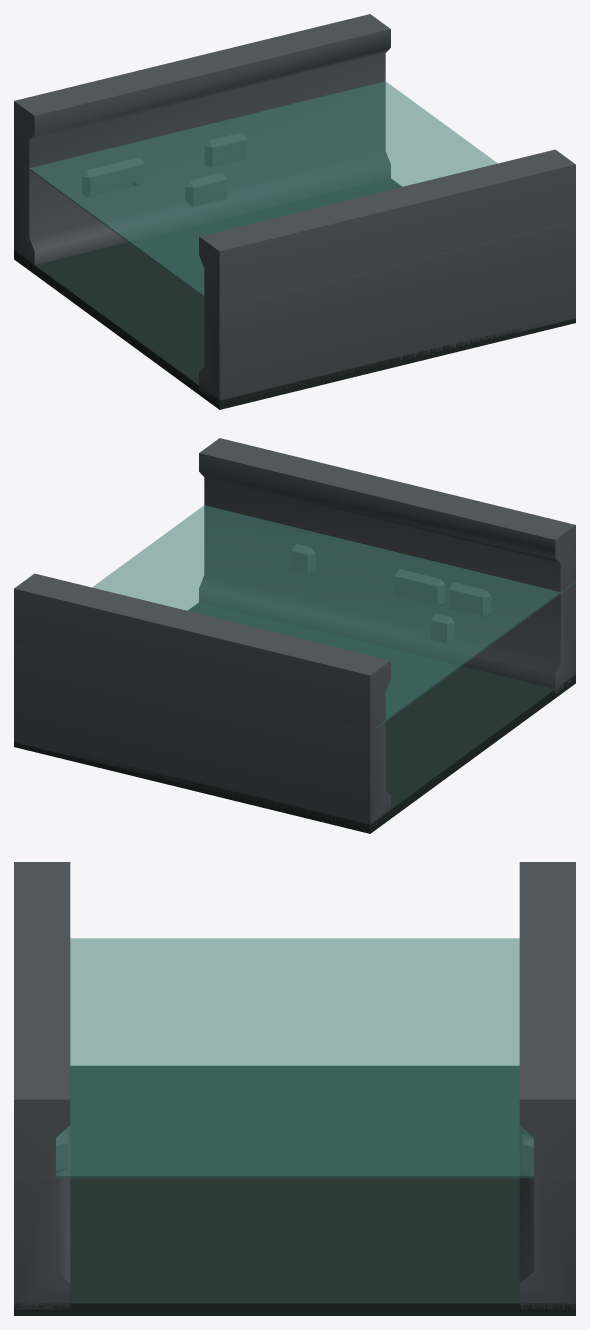
File: floor_pool_runner_B.glb
The picture shows the model from 3 angles, top to bottom: view 1: azimuth 30°, elevation 25°; view 2: azimuth 150°, elevation 25°; view 3: azimuth 270°, elevation 25°; orthographic projection. The views are drawn at different scales.
Parts seen in each view (by area): view 1: Item; view 2: Item; view 3: Item.
Boxes of the visible parts, x1,y1,x2,y2 form: Item: [14, 14, 575, 409]; Item: [14, 438, 575, 833]; Item: [14, 862, 575, 1315].
Size of the model in its own units: 4 by 1.7 by 4.
3 materials, 3 textured.
